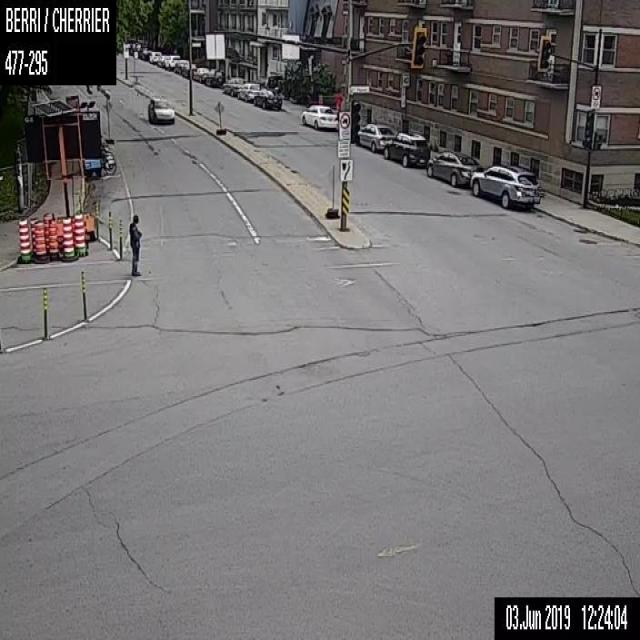construction: (22, 98, 102, 240), (325, 162, 338, 218), (34, 218, 47, 262), (73, 211, 86, 254), (102, 99, 114, 142), (18, 217, 30, 260), (62, 217, 74, 260), (42, 212, 53, 254), (79, 269, 87, 320), (214, 100, 226, 133), (48, 217, 56, 261), (30, 216, 37, 259), (42, 287, 47, 340), (107, 210, 113, 250), (117, 218, 123, 258)
pedestrian: (127, 212, 142, 276)
vehicle: (470, 164, 540, 209), (426, 150, 482, 187), (383, 132, 430, 168), (355, 123, 395, 152), (300, 104, 338, 129), (146, 95, 174, 123), (252, 88, 282, 108), (237, 83, 260, 101), (202, 68, 223, 86), (222, 77, 242, 95), (180, 63, 196, 78), (193, 67, 208, 81), (164, 55, 179, 69), (173, 60, 188, 73), (149, 51, 161, 63), (157, 55, 164, 66)
